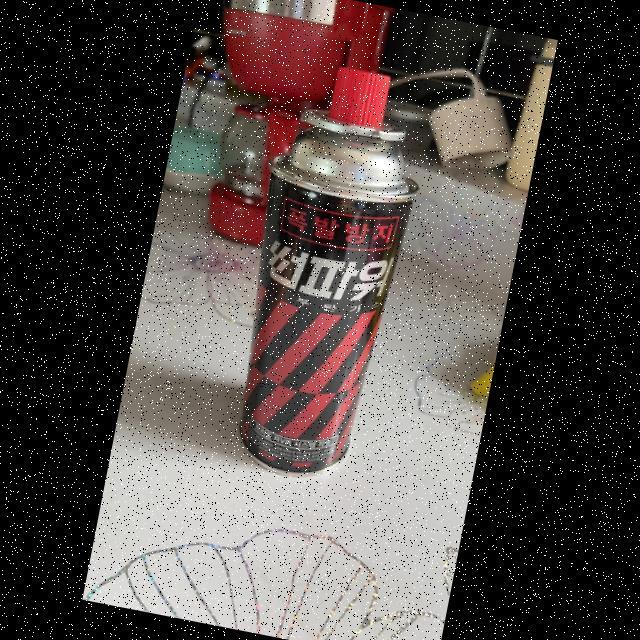chemical_spray_can: (200, 40, 448, 506)
